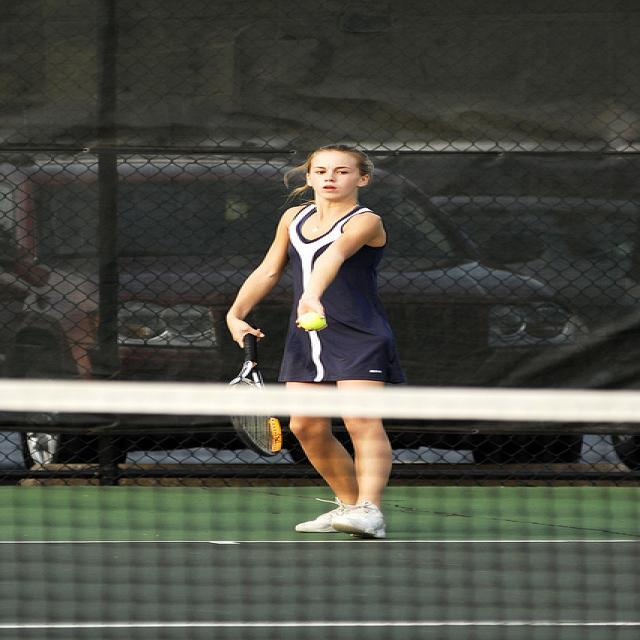non-dog: (225, 148, 400, 536)
